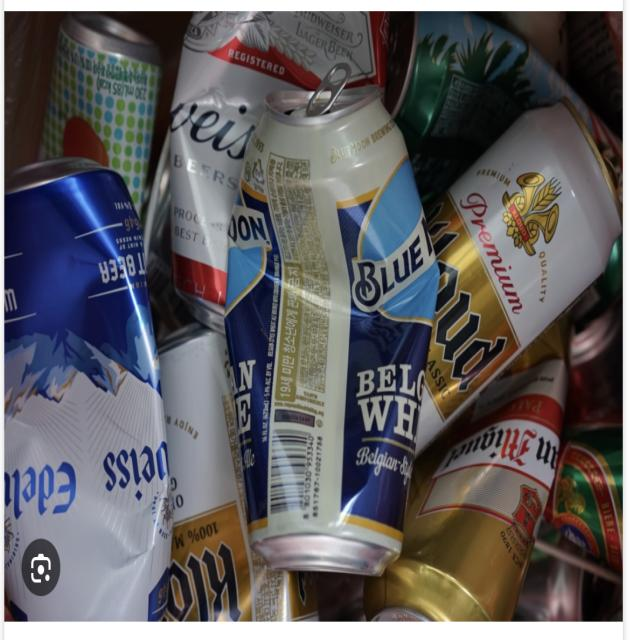recyclable: (216, 64, 437, 593)
